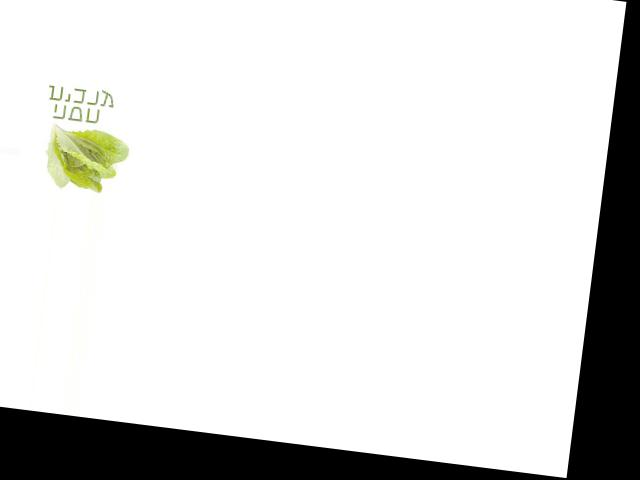lettuce: (37, 115, 132, 196)
